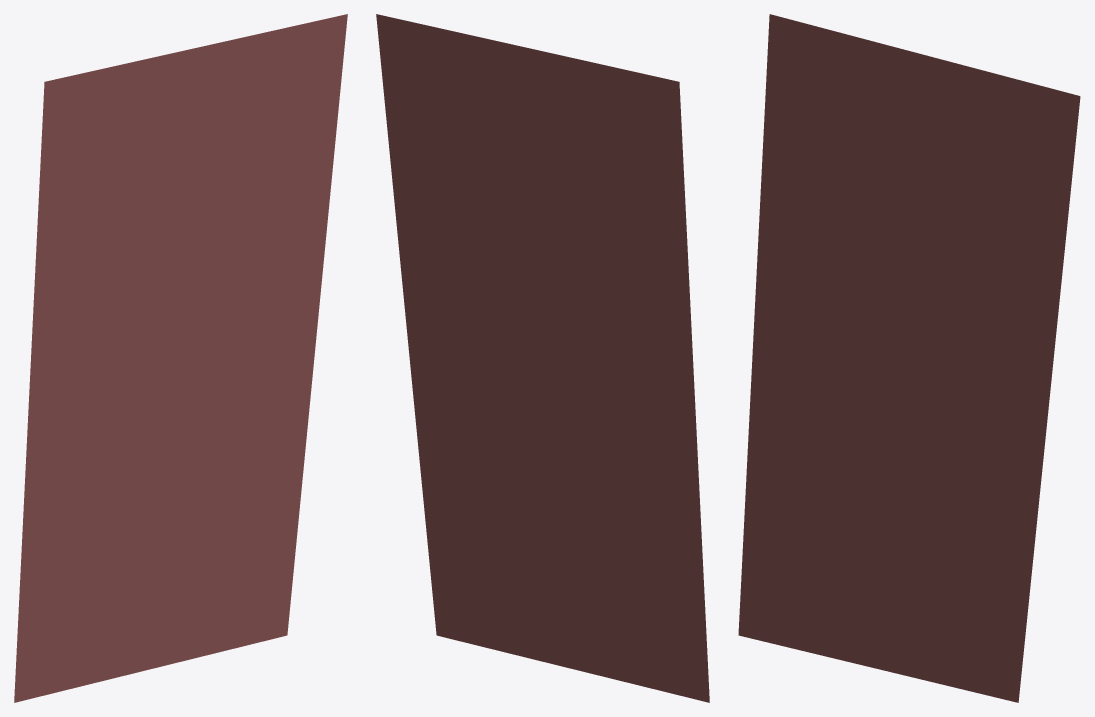
The model's file is door_A.FBX.
3 renders of one model, left to right at view 1: azimuth 30°, elevation 25°; view 2: azimuth 150°, elevation 25°; view 3: azimuth 330°, elevation 25°, orthographic. The views are drawn at different scales.
Parts seen in each view (by area): view 1: door_A; view 2: door_A; view 3: door_A.
Boxes of the visible parts, x1,y1,x2,y2 form: door_A: (14,14,347,702); door_A: (376,14,709,702); door_A: (738,14,1080,702).
Bounding box in the file's own units: 1.64 × 2.89 × 6.64e-07.
